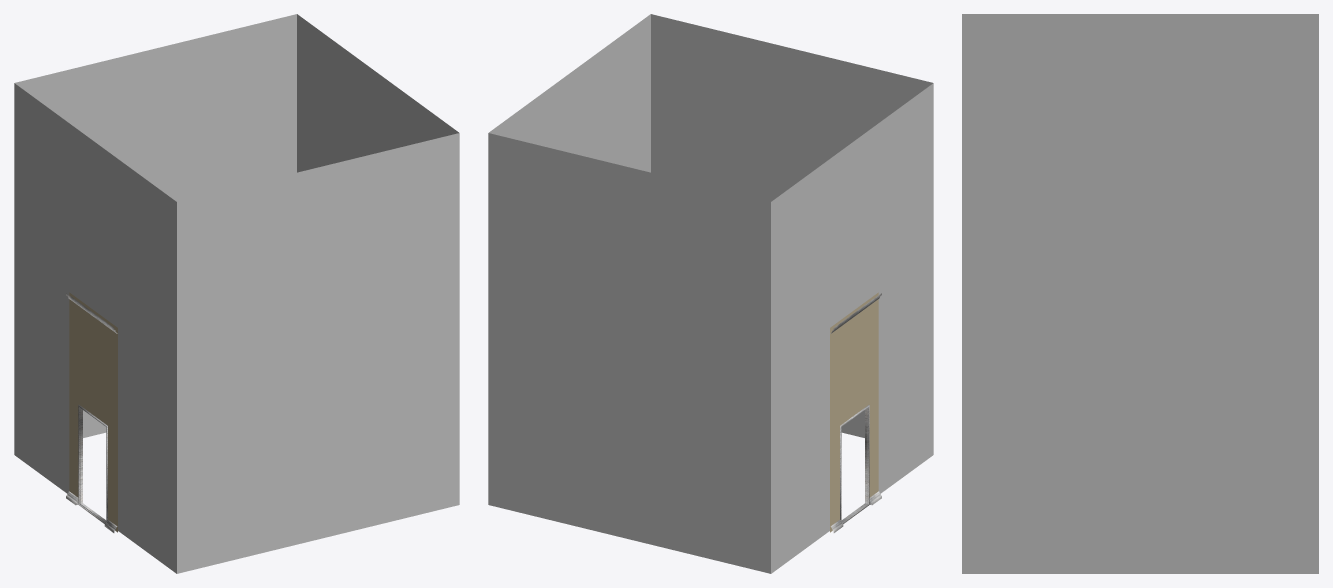
Rendered from WhiteRoomWall.fbx.
The picture shows the model from 3 angles, left to right: view 1: azimuth 30°, elevation 25°; view 2: azimuth 150°, elevation 25°; view 3: azimuth 270°, elevation 25°; orthographic projection. The views are drawn at different scales.
Visible parts, largest first — view 1: Cube.182; view 2: Cube.182; view 3: Cube.182.
Part boxes in pixels (x1,y1,x2,y2): Cube.182: [14, 14, 459, 573]; Cube.182: [488, 14, 933, 573]; Cube.182: [962, 14, 1318, 573].
Size of the model in its own units: 206 by 254 by 201.
